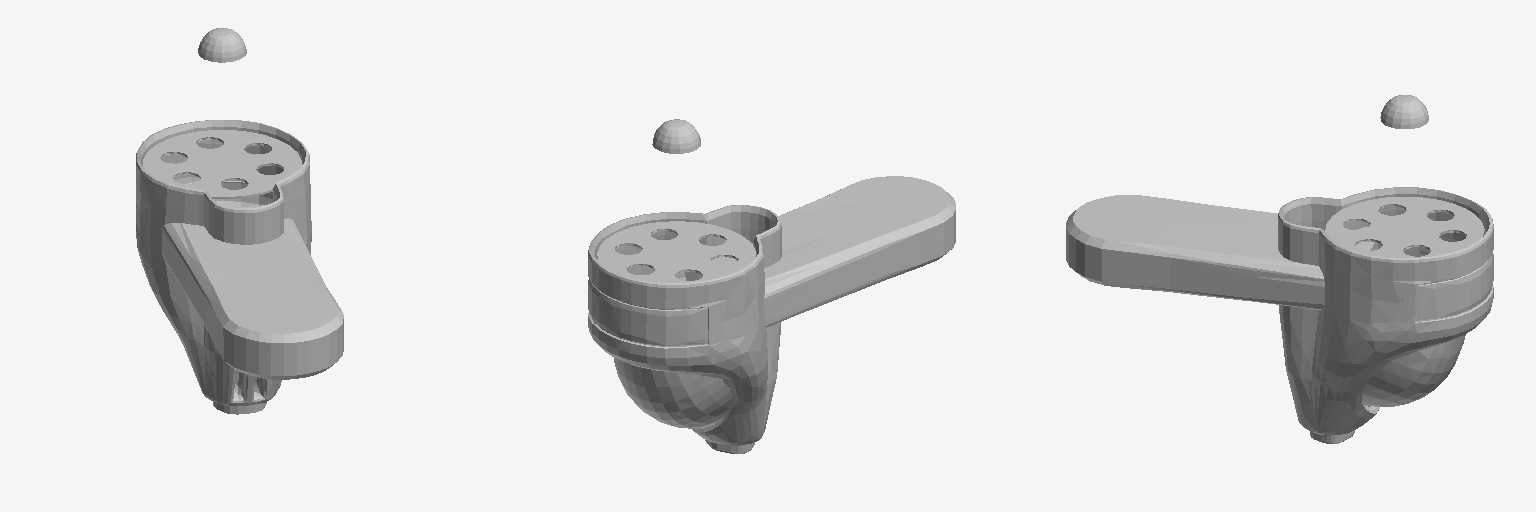
The model's file is droneArm.obj.
The picture shows the model from 3 angles: view 1: azimuth 30°, elevation 25°; view 2: azimuth 150°, elevation 25°; view 3: azimuth 270°, elevation 25°; orthographic projection.
Visible parts, largest first — view 1: 4_L.008_Sphere010.001; view 2: 4_L.008_Sphere010.001; view 3: 4_L.008_Sphere010.001.
Part boxes in pixels (bbox=[...]): 4_L.008_Sphere010.001: bbox=[136, 28, 343, 414]; 4_L.008_Sphere010.001: bbox=[588, 119, 955, 453]; 4_L.008_Sphere010.001: bbox=[1066, 95, 1493, 443].
Bounding box in the file's own units: 0.3484 × 0.5471 × 0.6175.